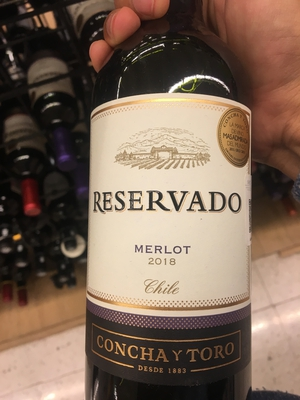reservado merlot: (79, 10, 275, 376)
